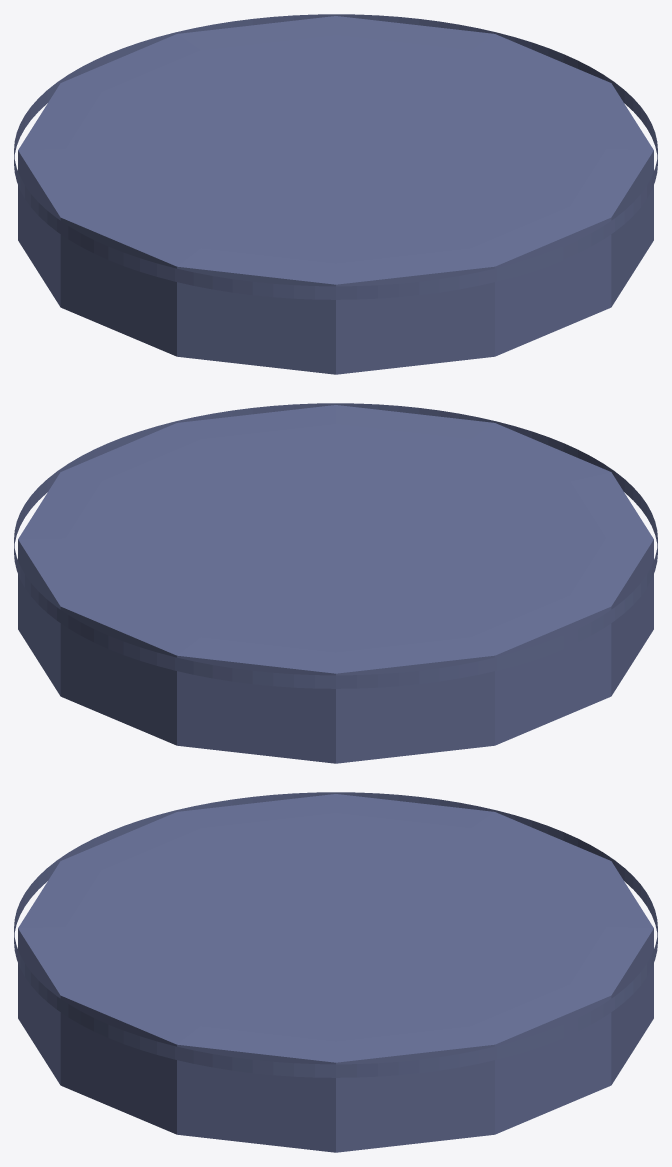
Rendered from zodiac_altar_base.glb.
3 renders of one model, top to bottom at view 1: azimuth 30°, elevation 25°; view 2: azimuth 150°, elevation 25°; view 3: azimuth 270°, elevation 25°, orthographic.
Parts seen in each view (by area): view 1: zodiac_altar_base; view 2: zodiac_altar_base; view 3: zodiac_altar_base.
Part boxes in pixels (x1,y1,x2,y2): zodiac_altar_base: [14, 14, 657, 374]; zodiac_altar_base: [14, 403, 657, 763]; zodiac_altar_base: [14, 792, 657, 1152].
Size of the model in its own units: 3.24 by 0.5098 by 3.24.
